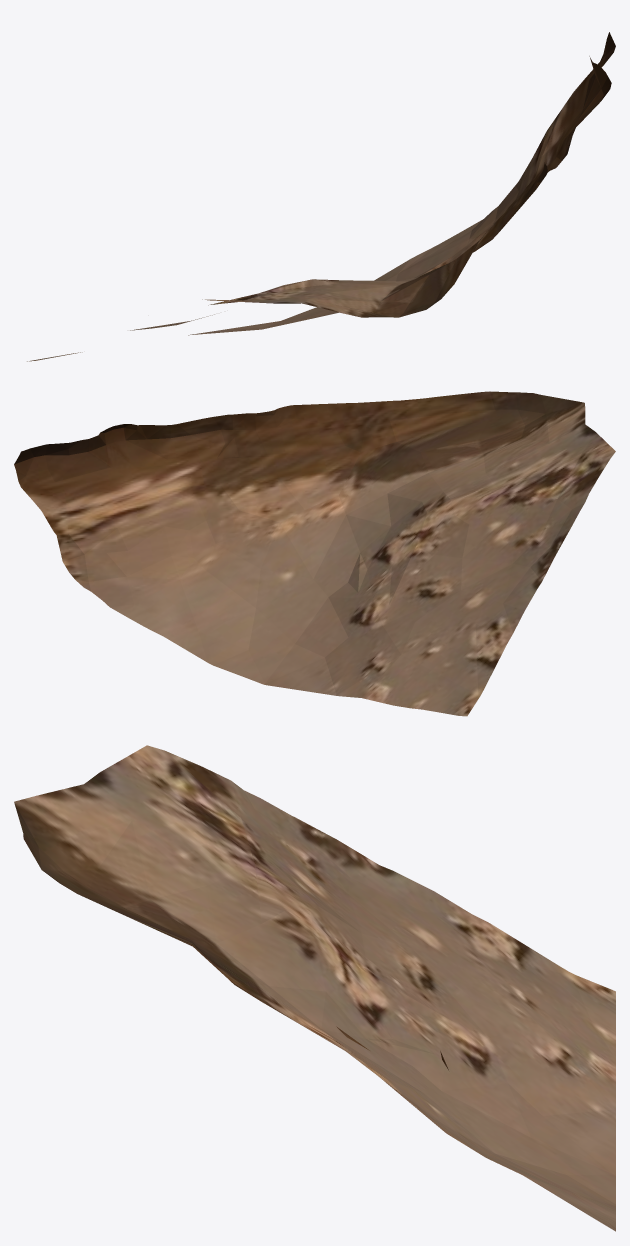
3 renders of one model, top to bottom at view 1: azimuth 30°, elevation 25°; view 2: azimuth 150°, elevation 25°; view 3: azimuth 270°, elevation 25°, orthographic. The views are drawn at different scales.
Bounding box in the file's own units: 0.6723 × 0.2466 × 0.4907.
Materials: 1 (1 with a texture image).
